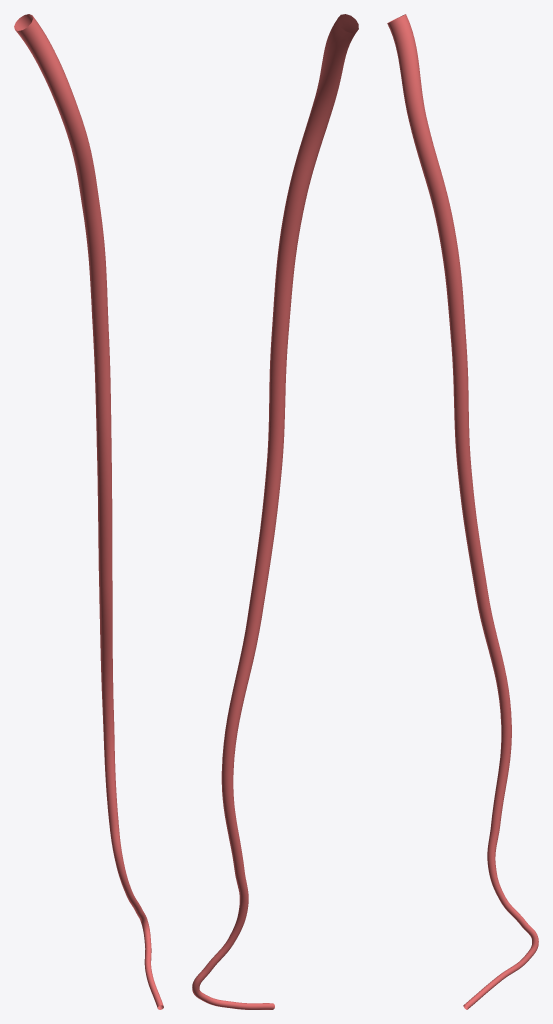
File: Posterior_tibial_artery.r_BezierCurve.172.glb
The picture shows the model from 3 angles, left to right: view 1: azimuth 30°, elevation 25°; view 2: azimuth 150°, elevation 25°; view 3: azimuth 330°, elevation 25°; orthographic projection. The views are drawn at different scales.
Parts seen in each view (by area): view 1: Posterior_tibial_artery.r_BezierCurve.172; view 2: Posterior_tibial_artery.r_BezierCurve.172; view 3: Posterior_tibial_artery.r_BezierCurve.172.
Part boxes in pixels (left/top/right/bottom): Posterior_tibial_artery.r_BezierCurve.172: left=14, top=14, right=163, bottom=1009; Posterior_tibial_artery.r_BezierCurve.172: left=192, top=14, right=358, bottom=1009; Posterior_tibial_artery.r_BezierCurve.172: left=387, top=14, right=538, bottom=1009.
Bounding box in the file's own units: 0.0514 × 0.3378 × 0.0314.
